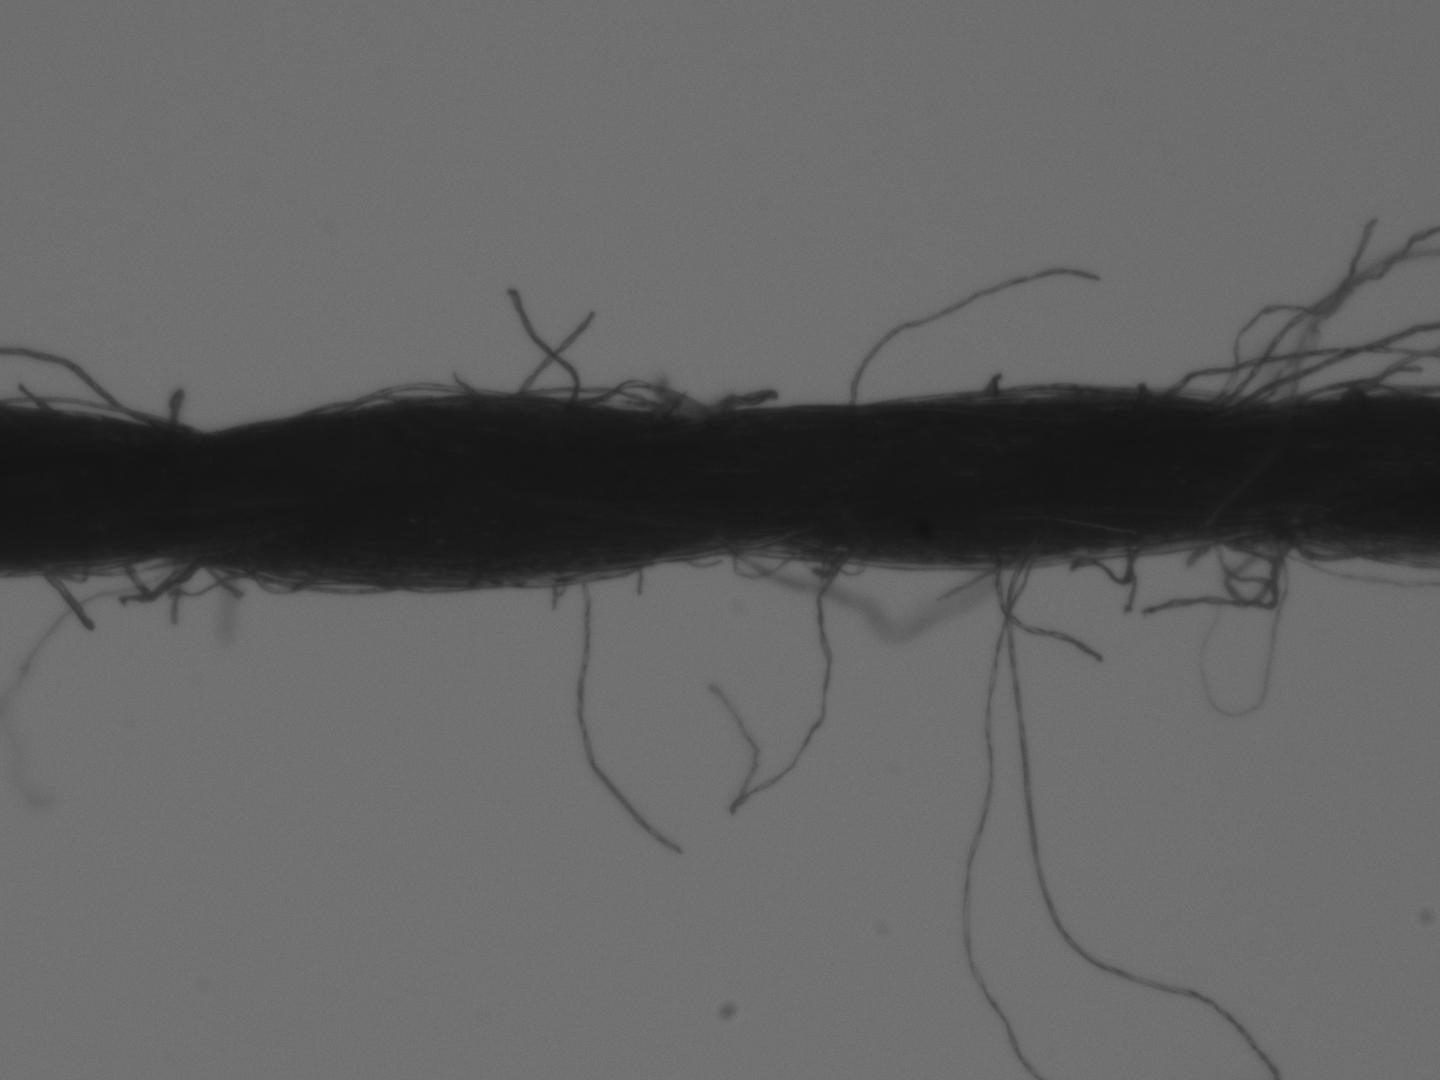loop_fiber: (549, 372, 712, 433), (1193, 531, 1291, 615), (112, 550, 257, 602), (345, 382, 497, 414), (510, 385, 658, 413), (1284, 377, 1407, 405), (727, 547, 801, 582), (34, 556, 92, 588), (306, 397, 393, 414)
protruding_fiber: (850, 263, 1109, 406), (571, 576, 686, 864)
